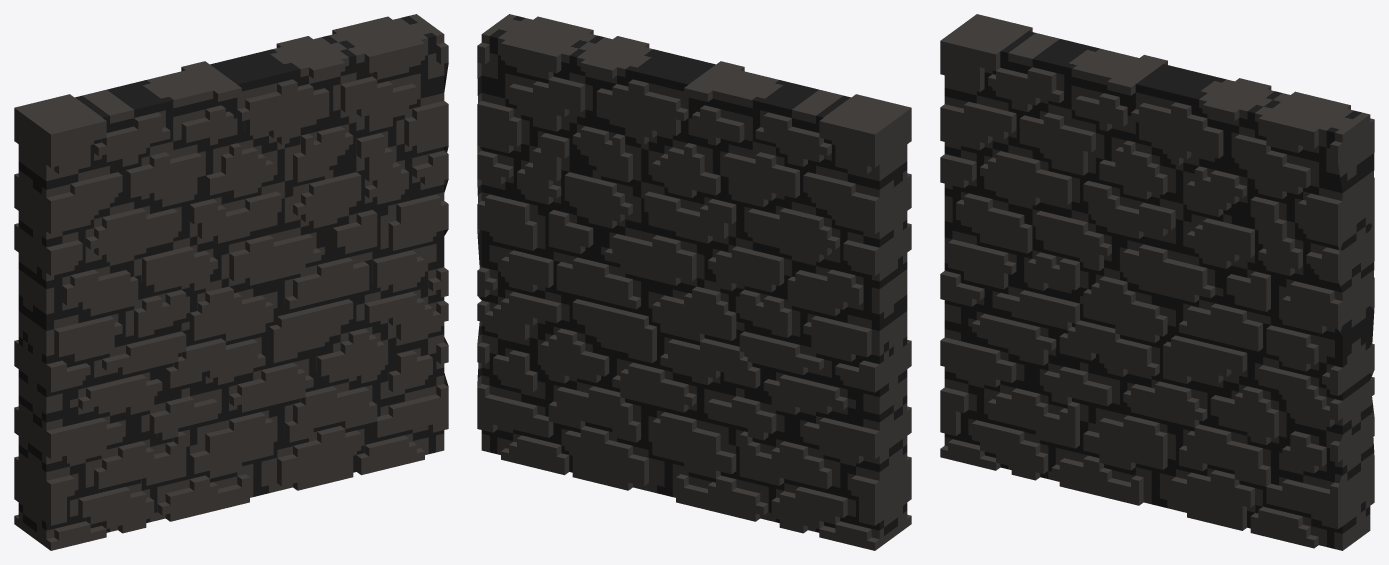
File: CatacombsWallRL.fbx
3 views of the same model, side by side, from view 1: azimuth 30°, elevation 25°; view 2: azimuth 150°, elevation 25°; view 3: azimuth 330°, elevation 25° (orthographic).
Parts seen in each view (by area): view 1: CatacombsWallRL; view 2: CatacombsWallRL; view 3: CatacombsWallRL.
Boxes of the visible parts, x1,y1,x2,y2 form: CatacombsWallRL: (14, 14, 448, 550); CatacombsWallRL: (477, 14, 911, 550); CatacombsWallRL: (940, 14, 1374, 550).
Bounding box in the file's own units: 500 × 500 × 80.
1 material, 1 textured.
